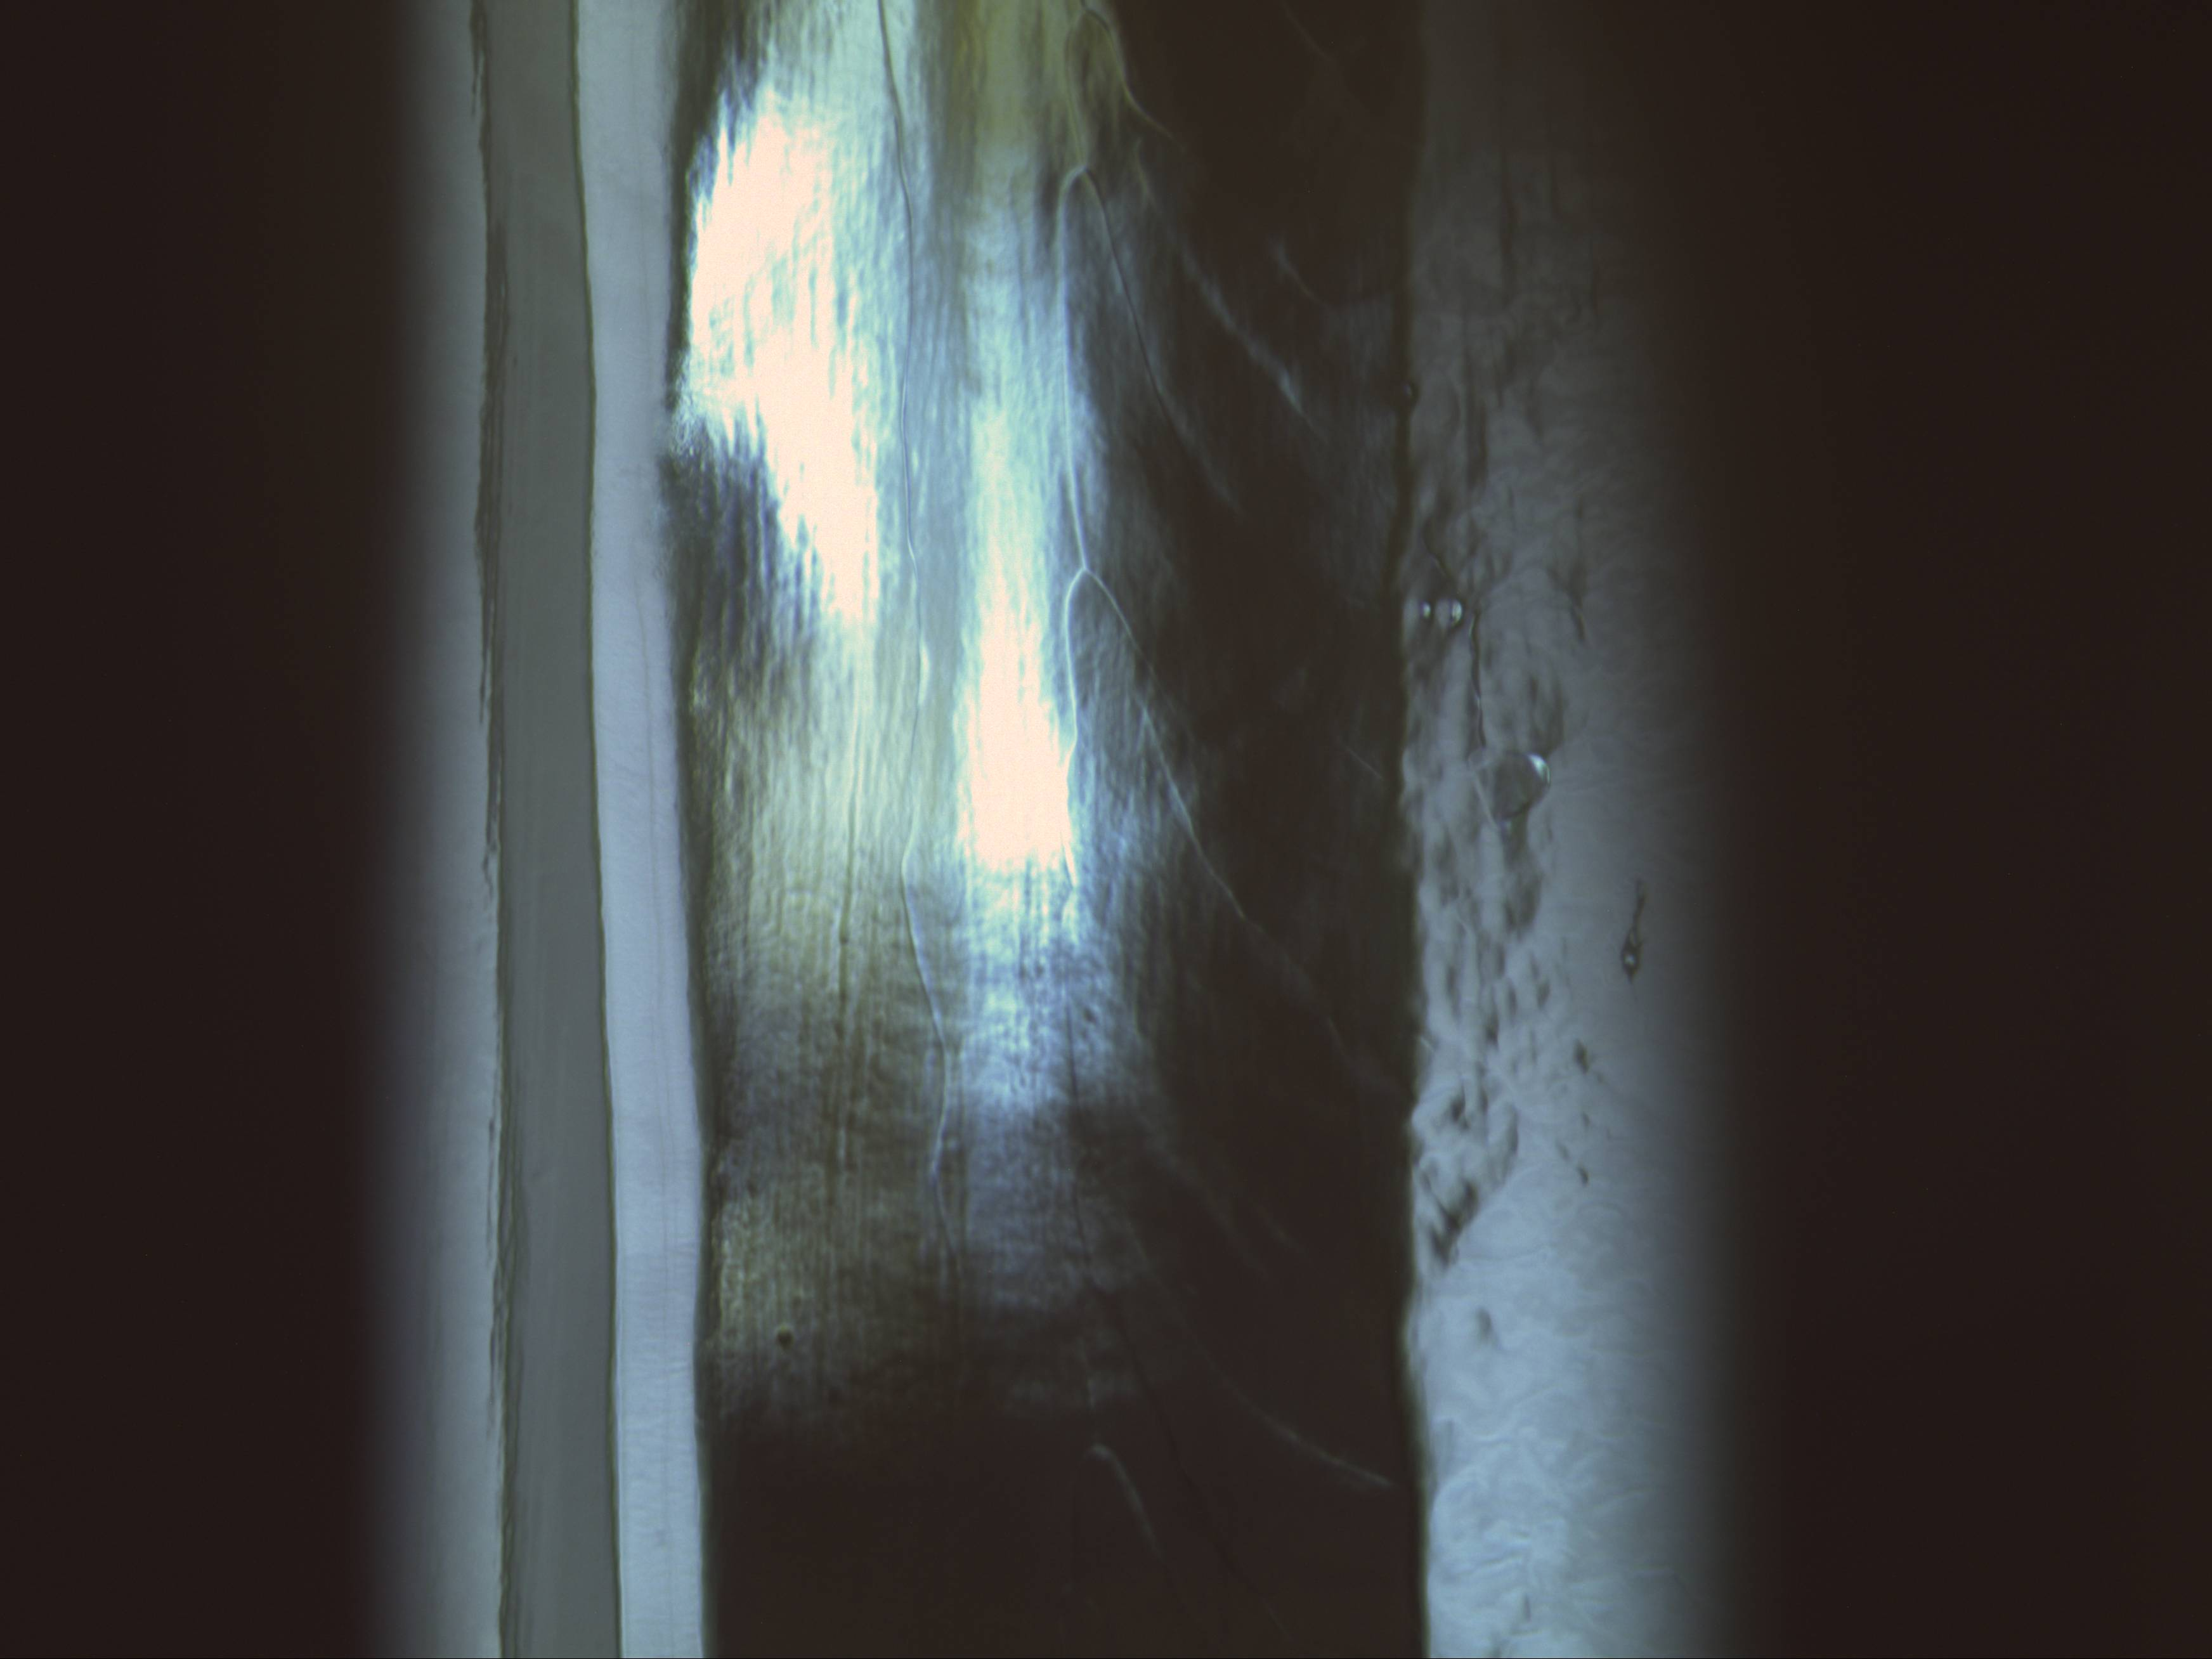defect: (770, 1316, 803, 1356)
